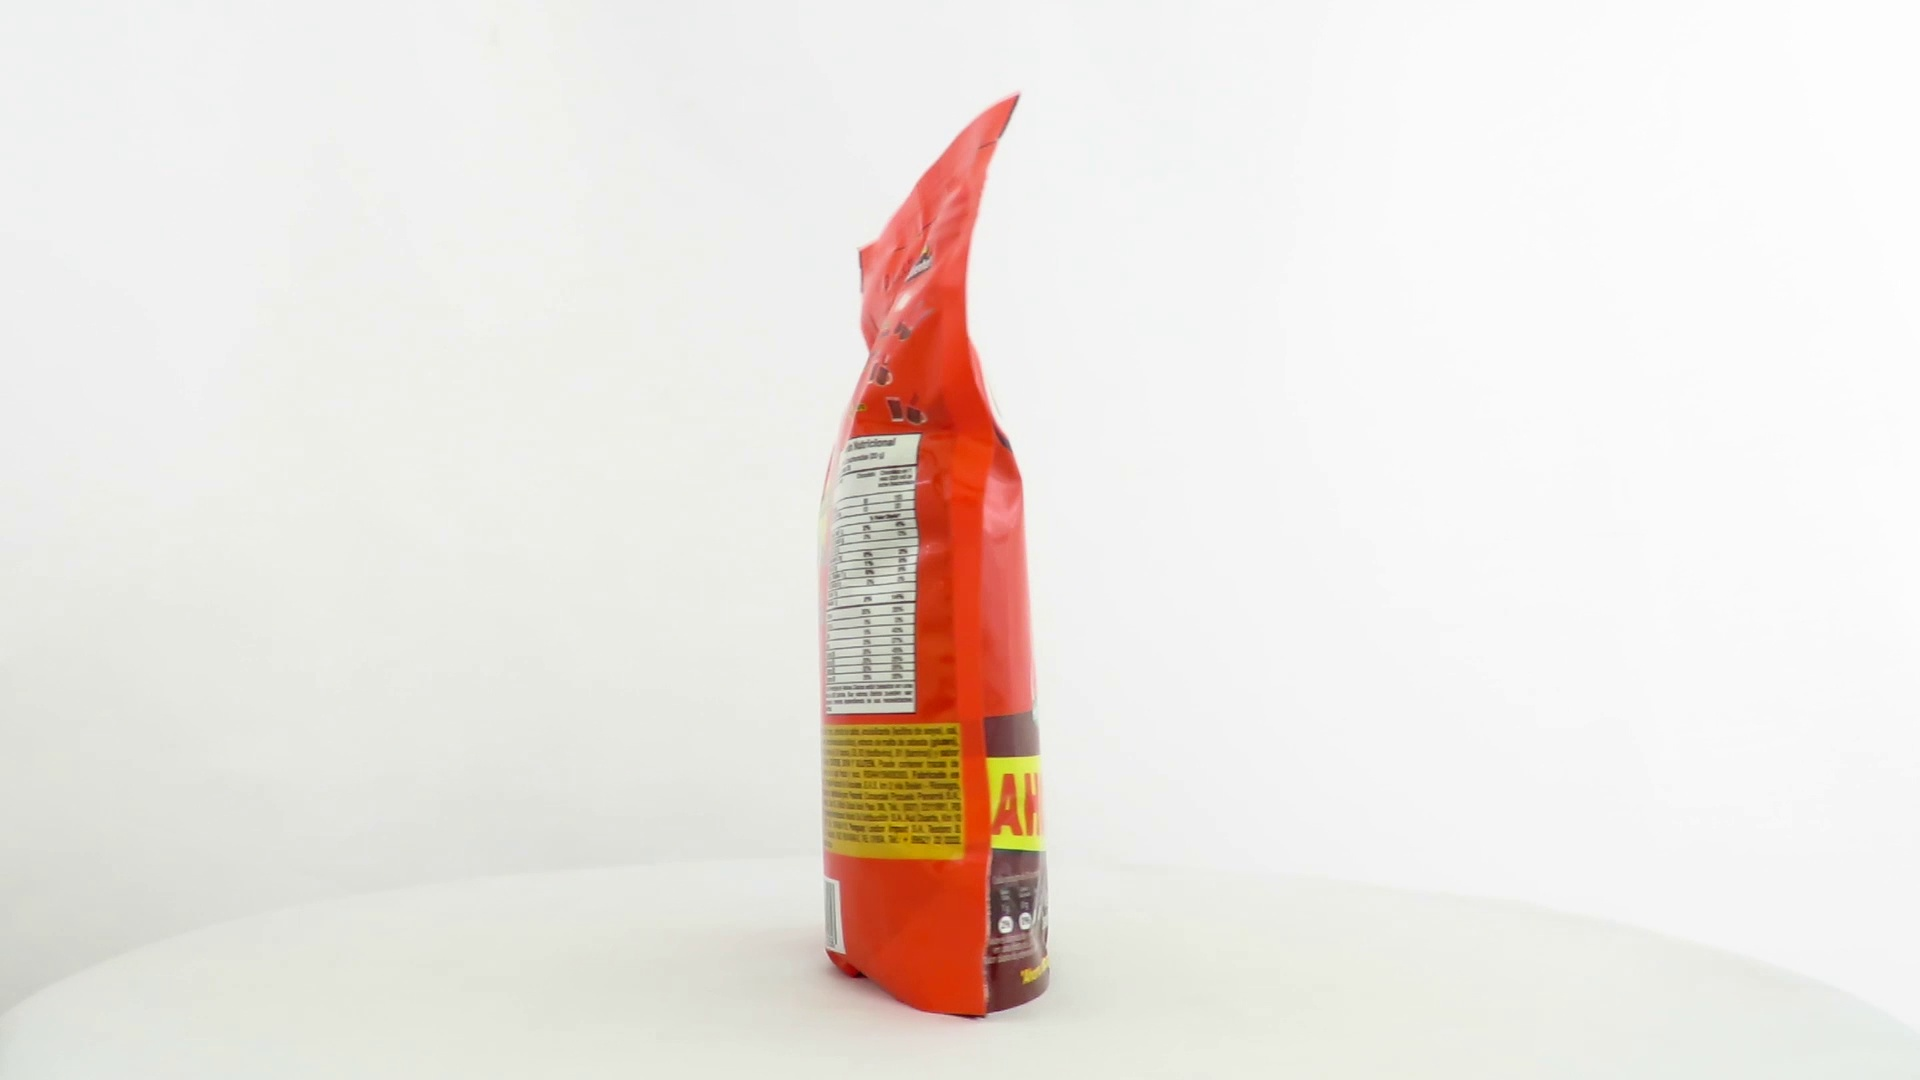COL0170103DYP40000: (811, 90, 1056, 1025)
